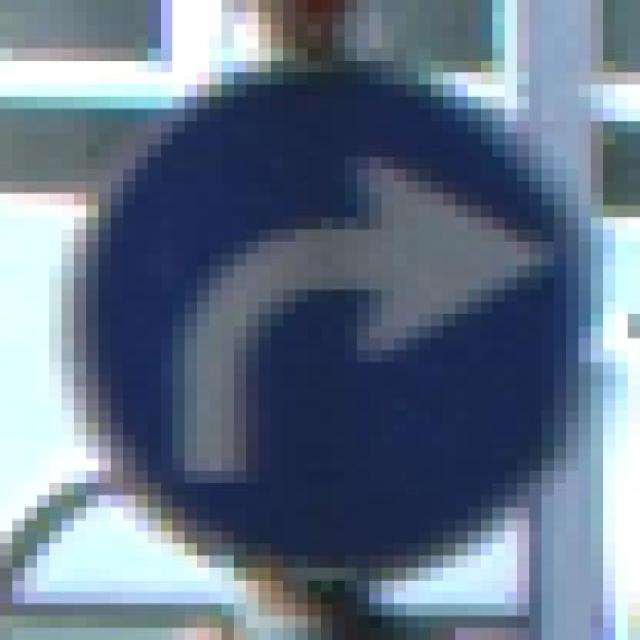Turn right ahead: (37, 56, 603, 599)
